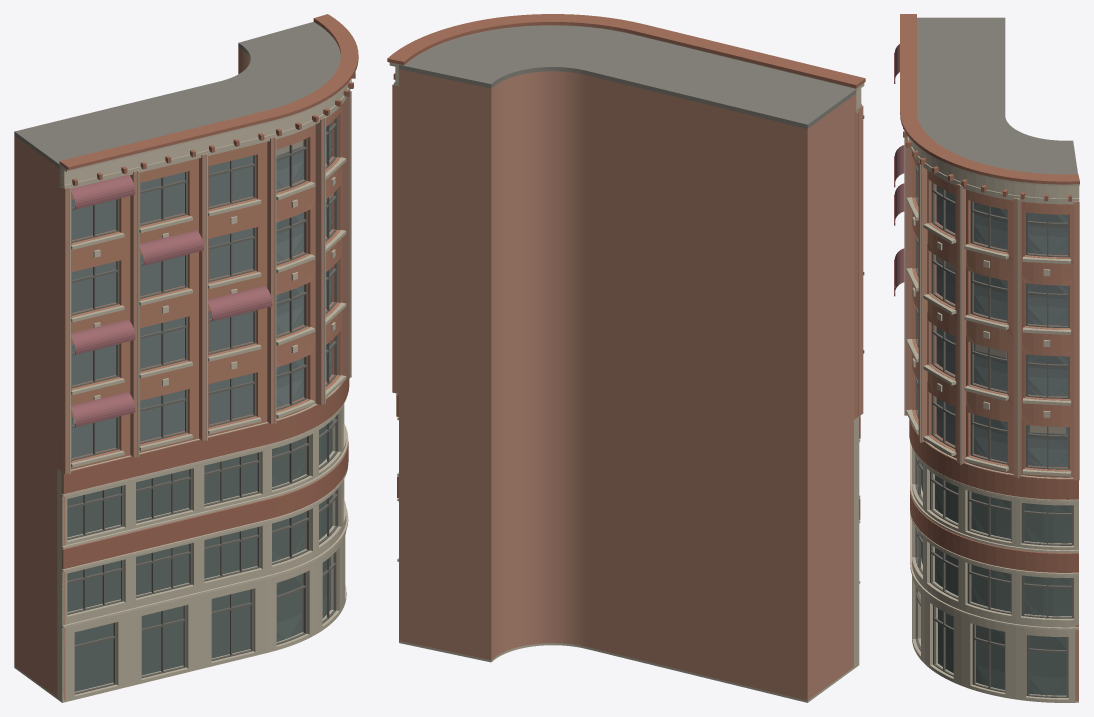
Rendered from hongkou-bank-of-china-hongkew-lod.glb.
3 views of the same model, side by side, from view 1: azimuth 30°, elevation 25°; view 2: azimuth 150°, elevation 25°; view 3: azimuth 270°, elevation 25° (orthographic). The views are drawn at different scales.
Visible parts, largest first — view 1: 虹口中国银行大楼（西南转角）; view 2: 虹口中国银行大楼（西南转角）; view 3: 虹口中国银行大楼（西南转角）.
Boxes of the visible parts, x1,y1,x2,y2 form: 虹口中国银行大楼（西南转角）: (14,14,358,702); 虹口中国银行大楼（西南转角）: (387,14,865,702); 虹口中国银行大楼（西南转角）: (894,14,1079,702).
Size of the model in its own units: 13.82 by 20.23 by 6.47.
